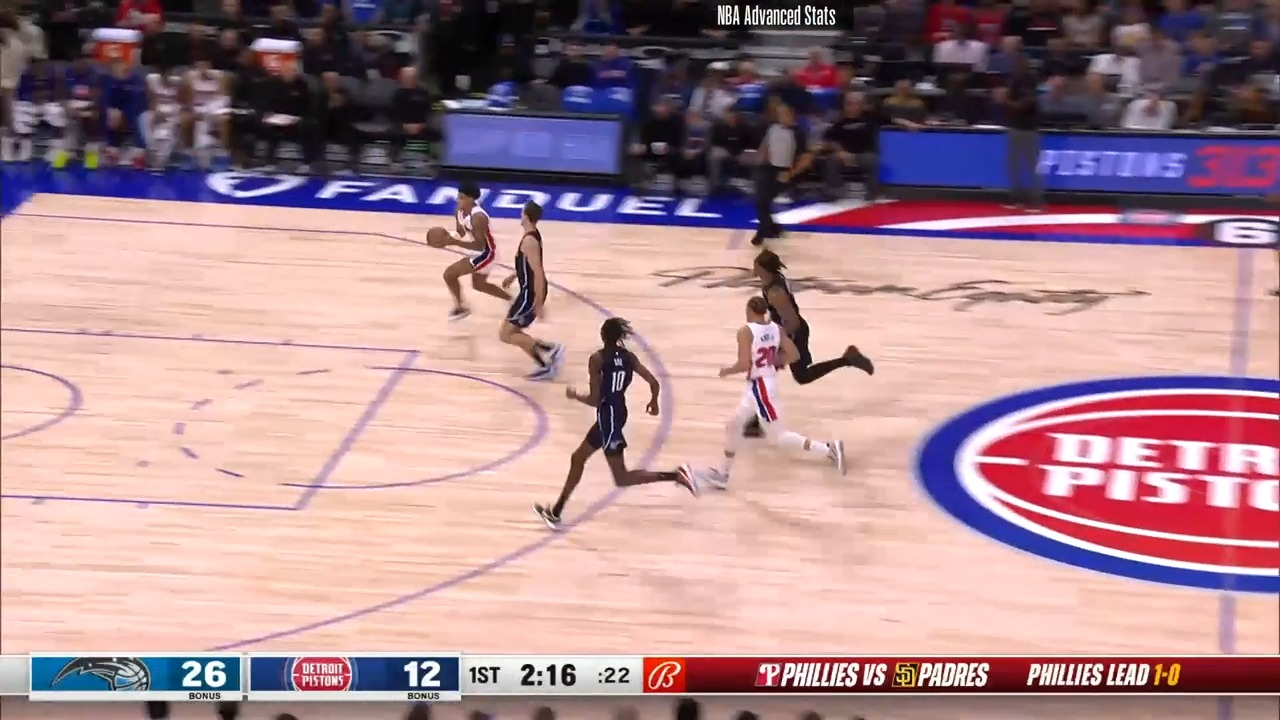player: (689, 287, 842, 494), (539, 315, 677, 540), (755, 248, 881, 400), (490, 194, 566, 382), (430, 179, 514, 325)
referee: (738, 92, 812, 251)
